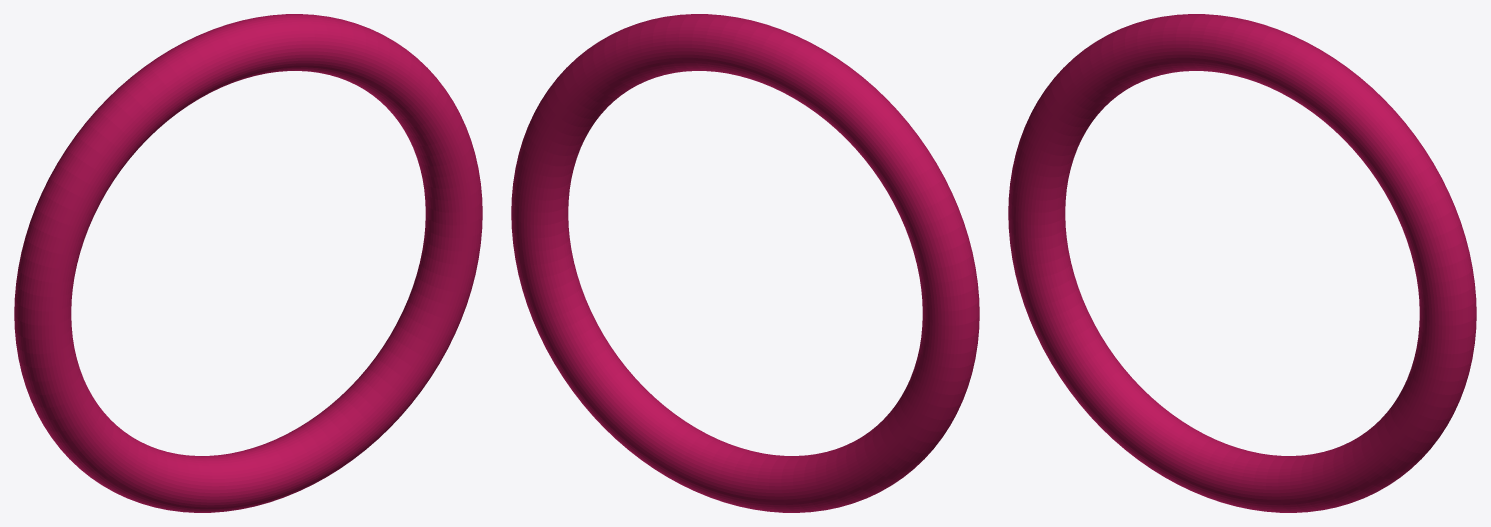
The picture shows the model from 3 angles, left to right: view 1: azimuth 30°, elevation 25°; view 2: azimuth 150°, elevation 25°; view 3: azimuth 330°, elevation 25°; orthographic projection.
Visible parts, largest first — view 1: world; view 2: world; view 3: world.
Boxes of the visible parts, x1,y1,x2,y2 form: world: [14, 14, 482, 512]; world: [511, 14, 979, 512]; world: [1008, 14, 1476, 512].
Size of the model in its own units: 26.13 by 26.13 by 2.79.
